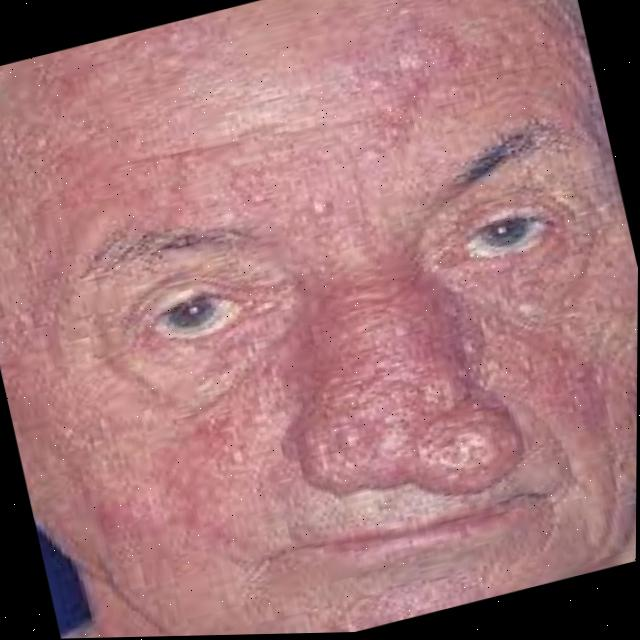Rosacea: (301, 253, 523, 517), (68, 409, 259, 577), (65, 11, 230, 131), (369, 0, 488, 123)
